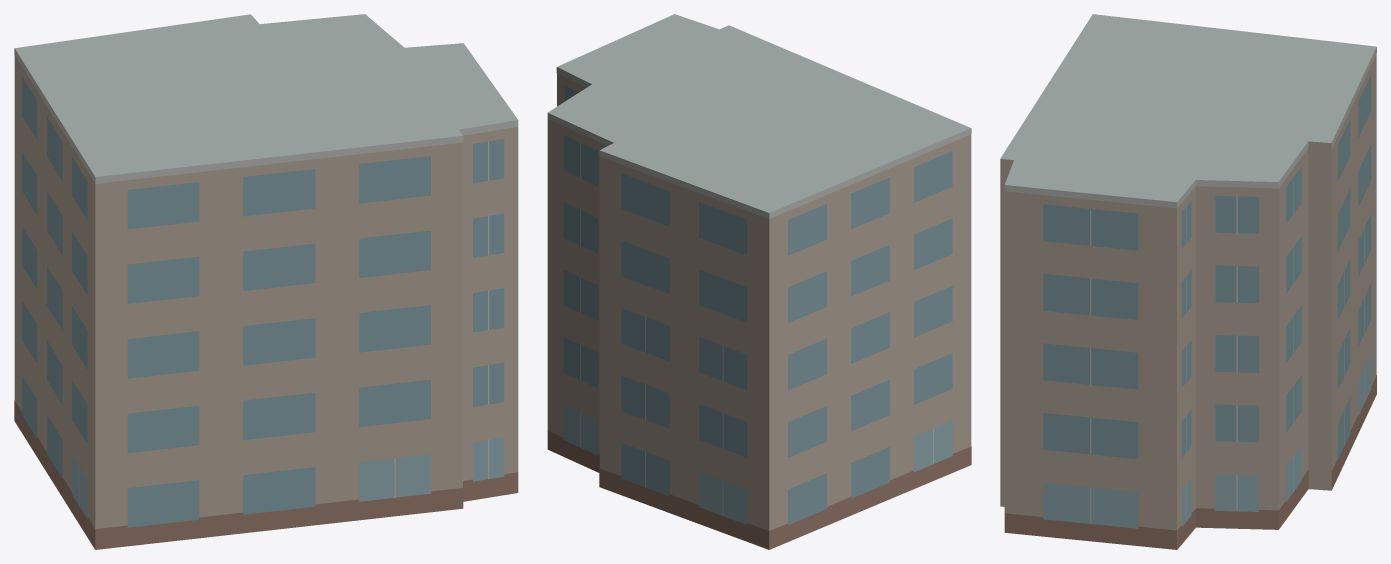
The model's file is survey-upis-32970140.glb.
3 views of the same model, side by side, from view 1: azimuth 30°, elevation 25°; view 2: azimuth 150°, elevation 25°; view 3: azimuth 270°, elevation 25° (orthographic). The views are drawn at different scales.
Visible parts, largest first — view 1: survey-upis-32970140.tmp; view 2: survey-upis-32970140.tmp; view 3: survey-upis-32970140.tmp.
Boxes of the visible parts, <box> form: survey-upis-32970140.tmp: <box>14,14,518,549</box>; survey-upis-32970140.tmp: <box>547,14,971,549</box>; survey-upis-32970140.tmp: <box>1000,14,1376,549</box>.
Size of the model in its own units: 15.8 by 13.6 by 13.36.
